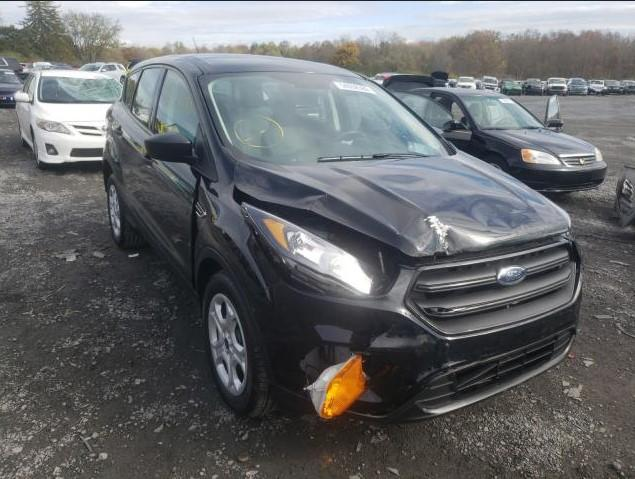Back-door: (116, 63, 166, 207)
Back-wheel: (107, 174, 145, 251)
Back-window: (130, 68, 161, 128), (124, 71, 140, 106)
Fender: (194, 145, 280, 383)
Front-bumper: (276, 268, 584, 426)
Front-door: (145, 65, 207, 272)
Front-wheel: (203, 268, 280, 418)
Front-window: (154, 70, 198, 143)
Grille: (401, 237, 578, 337)
Headlight: (241, 201, 402, 299)
Hood: (232, 149, 571, 260)
Mirror: (145, 129, 195, 164)
Quarter-panel: (103, 98, 126, 183)
Rocker-panel: (115, 179, 201, 308)
Roof: (128, 53, 365, 81)
Windshield: (199, 72, 450, 164)
